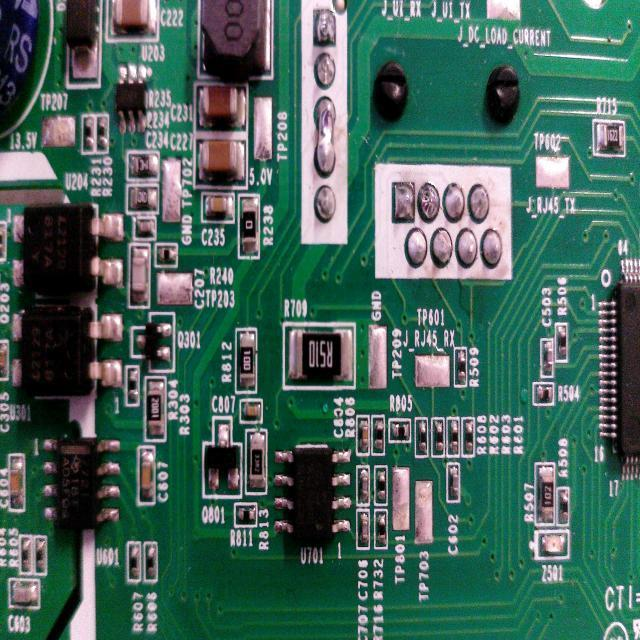Soldering shorted: (316, 94, 336, 175)
